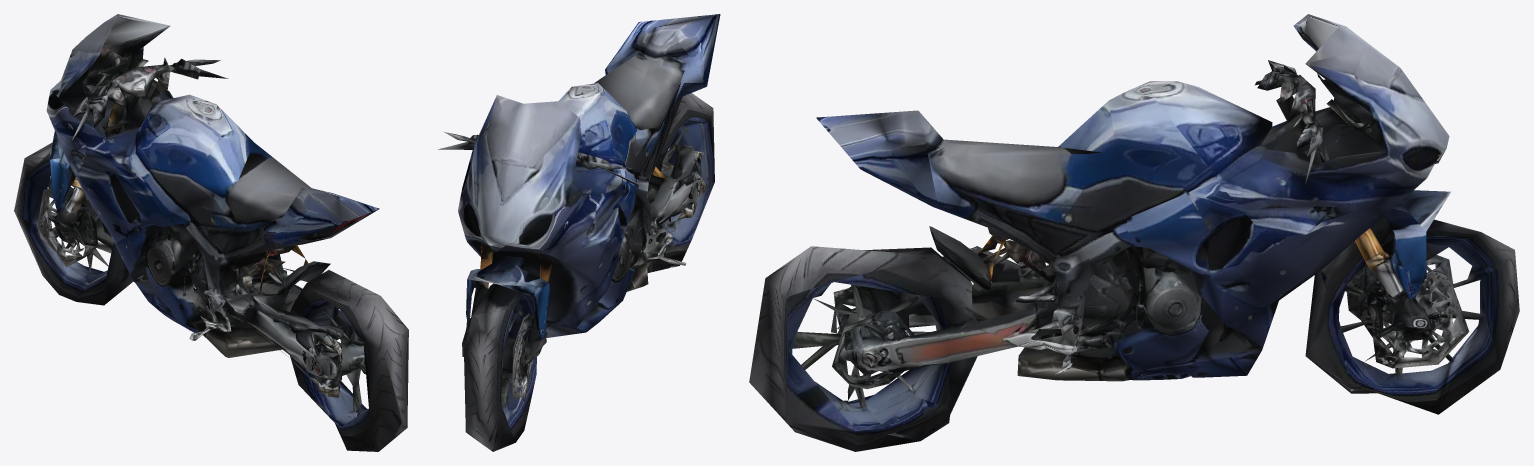
The model's file is tempete_loin.glb.
The picture shows the model from 3 angles, left to right: view 1: azimuth 30°, elevation 25°; view 2: azimuth 150°, elevation 25°; view 3: azimuth 270°, elevation 25°; orthographic projection. The views are drawn at different scales.
Visible parts, largest first — view 1: body, wheel_r, wheel_f; view 2: body, wheel_r, wheel_f; view 3: body, wheel_f, wheel_r.
Boxes of the visible parts, x1,y1,x2,y2 form: body: (14,14,408,451); wheel_r: (284,306,406,451); wheel_f: (46,167,113,301); body: (438,14,720,451); wheel_r: (661,117,714,240); wheel_f: (462,288,547,446); body: (749,14,1519,451); wheel_f: (1338,243,1505,414); wheel_r: (755,282,934,451).
Size of the model in its own units: 0.7135 by 1.18 by 2.1.
1 material, 1 textured.
